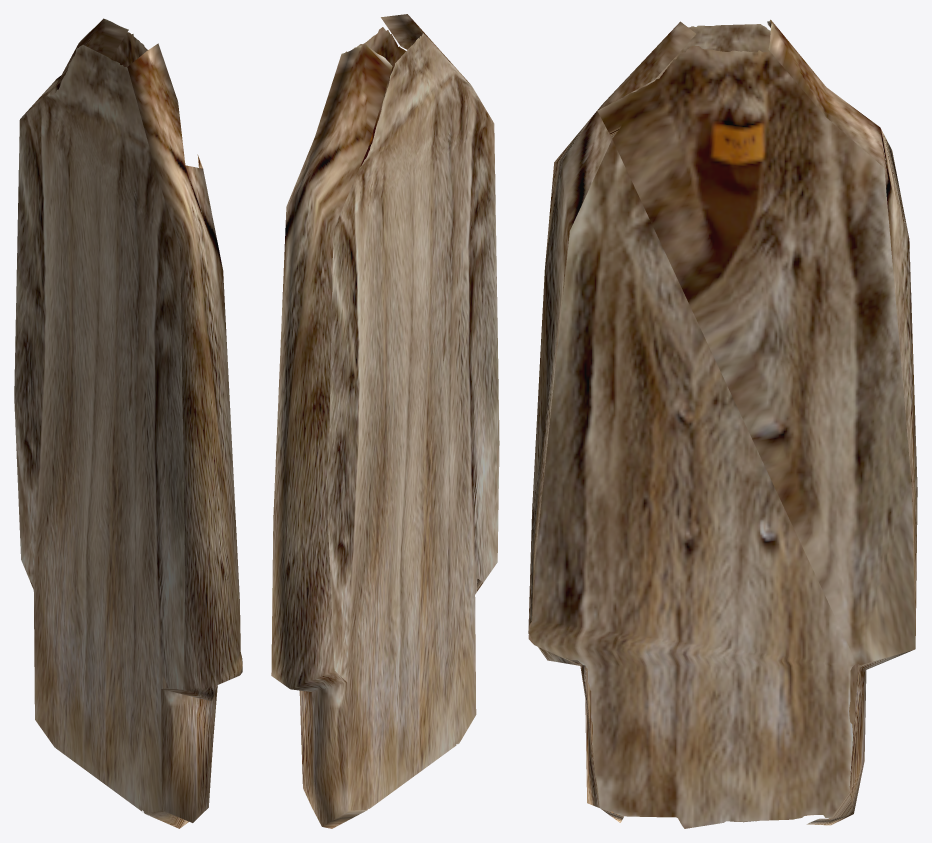
The model's file is CoatPrefab2.fbx.
3 renders of one model, left to right at view 1: azimuth 30°, elevation 25°; view 2: azimuth 150°, elevation 25°; view 3: azimuth 270°, elevation 25°, orthographic. The views are drawn at different scales.
Parts seen in each view (by area): view 1: Coat; view 2: Coat; view 3: Coat.
Part boxes in pixels (x1,y1,x2,y2): Coat: (14, 18, 242, 828); Coat: (271, 14, 499, 828); Coat: (528, 19, 917, 828).
Bounding box in the file's own units: 7.59 × 110 × 47.89.
